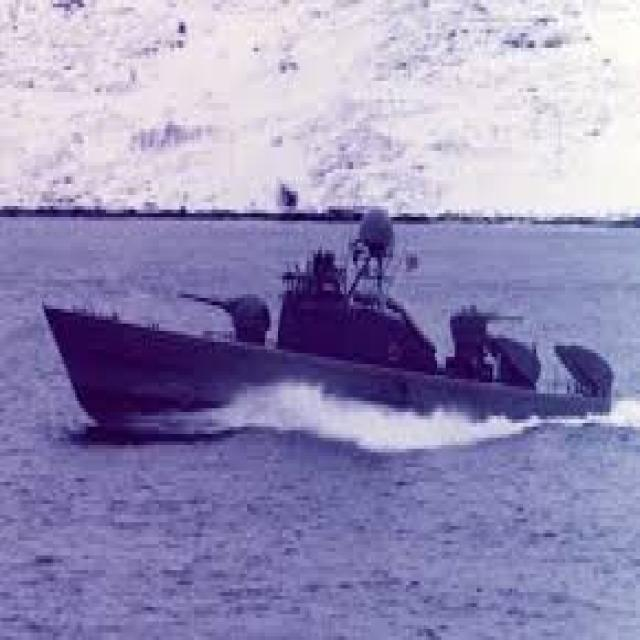houseboat: (43, 186, 615, 454)
